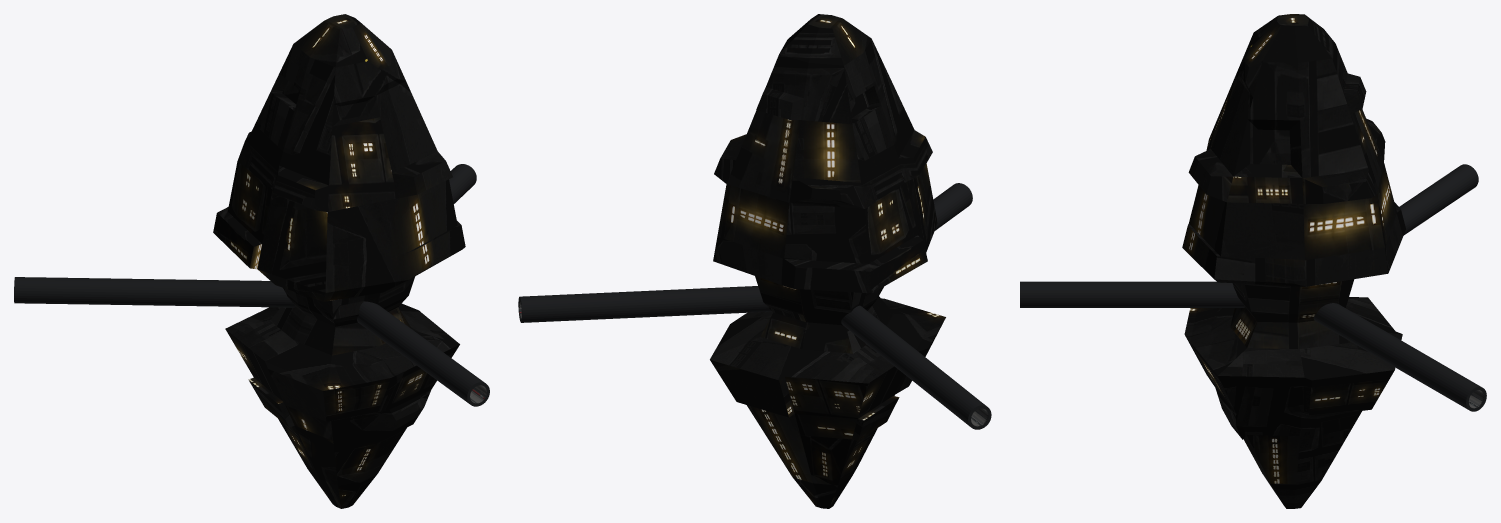
File: NaveNodriza.fbx
The picture shows the model from 3 angles, left to right: view 1: azimuth 30°, elevation 25°; view 2: azimuth 150°, elevation 25°; view 3: azimuth 270°, elevation 25°; orthographic projection.
Visible parts, largest first — view 1: Cube.003; view 2: Cube.003; view 3: Cube.003.
Boxes of the visible parts, x1,y1,x2,y2 form: Cube.003: (14,14,489,508); Cube.003: (518,14,991,508); Cube.003: (1020,14,1486,508).
Bounding box in the file's own units: 3481 × 3435 × 2996.
Materials: 2 (2 with a texture image).
